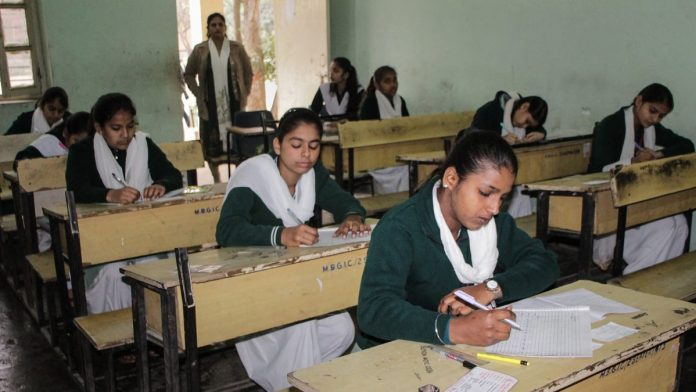invigilator: (183, 10, 257, 155)
student: (338, 132, 554, 352), (218, 101, 361, 256), (25, 95, 194, 211), (582, 77, 687, 182), (13, 72, 97, 143), (357, 57, 430, 117)
studentsleep: (456, 73, 585, 163)
